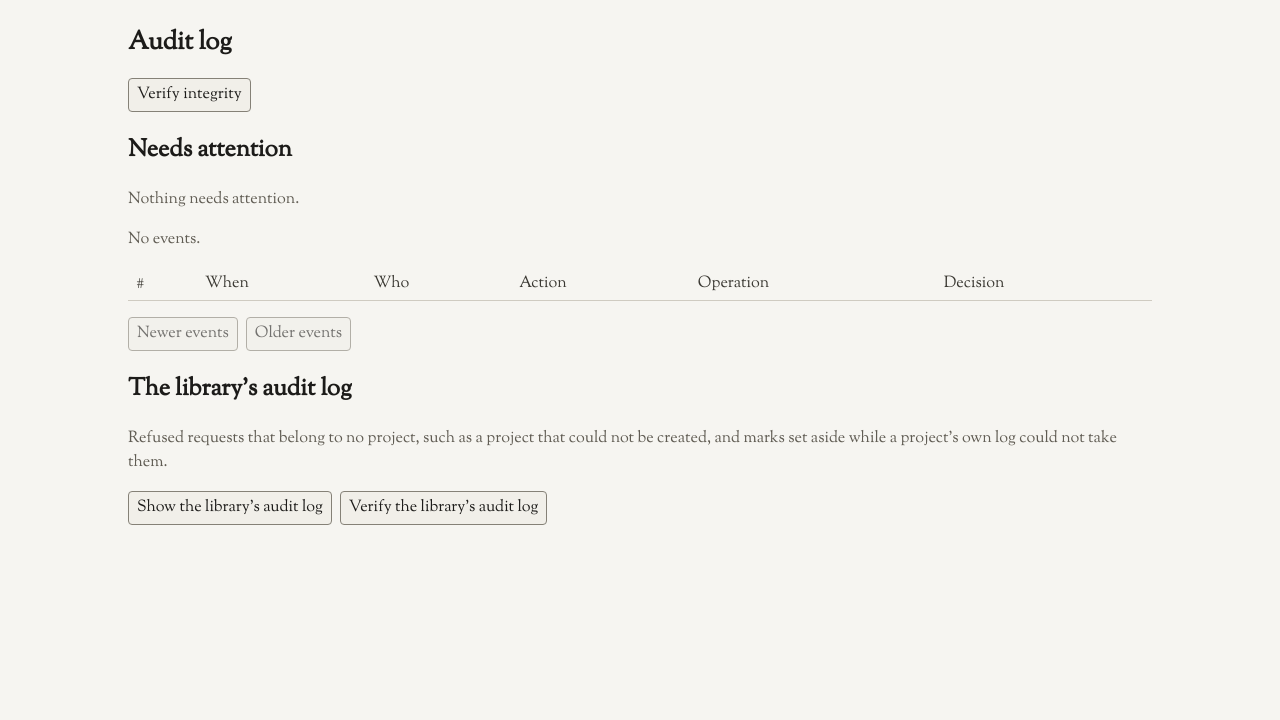
Test: Audit log › Verify integrity says UNVERIFIED when this computer holds no anchor to compare with
The image size is (1280, 720).
Step 1. Click the button "Verify integrity" → click(189, 95), box 128,78 -> 251,112
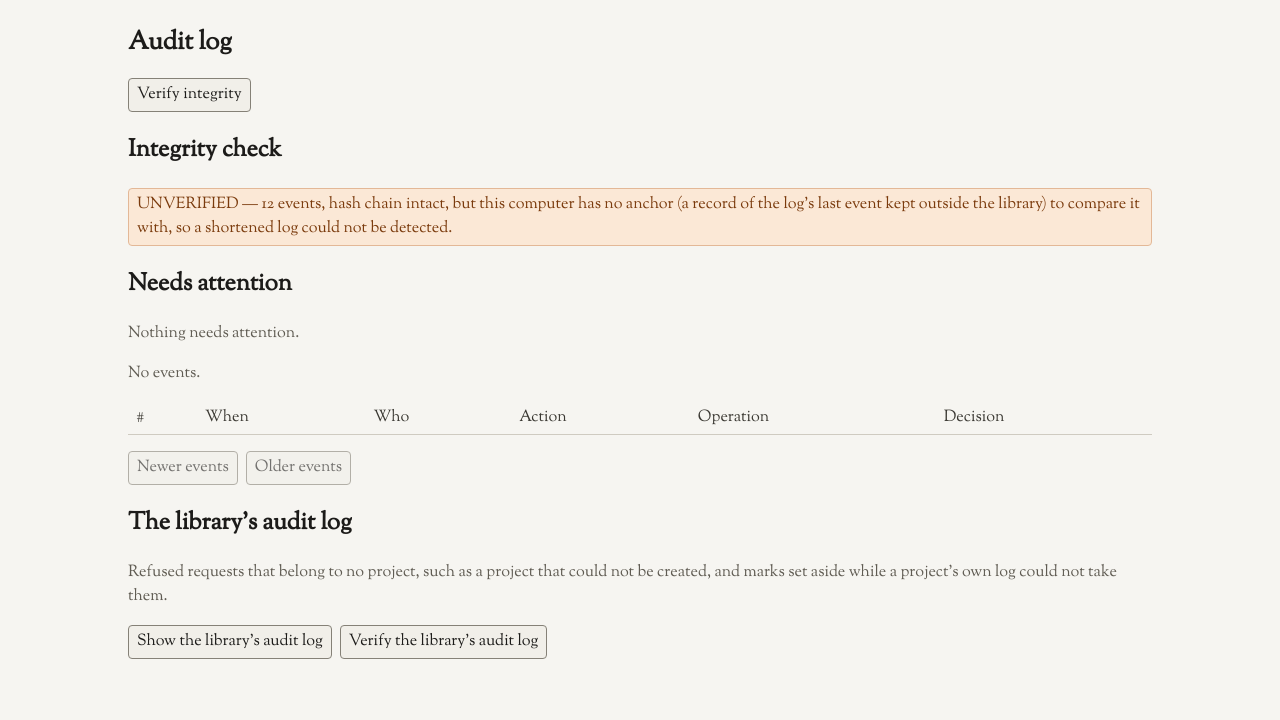
Result: the message shows "UNVERIFIED" at 137,193 -> 261,216
Result: the message shows "12 events" at 261,193 -> 321,216
Result: the message shows "no anchor" at 137,193 -> 1140,240
